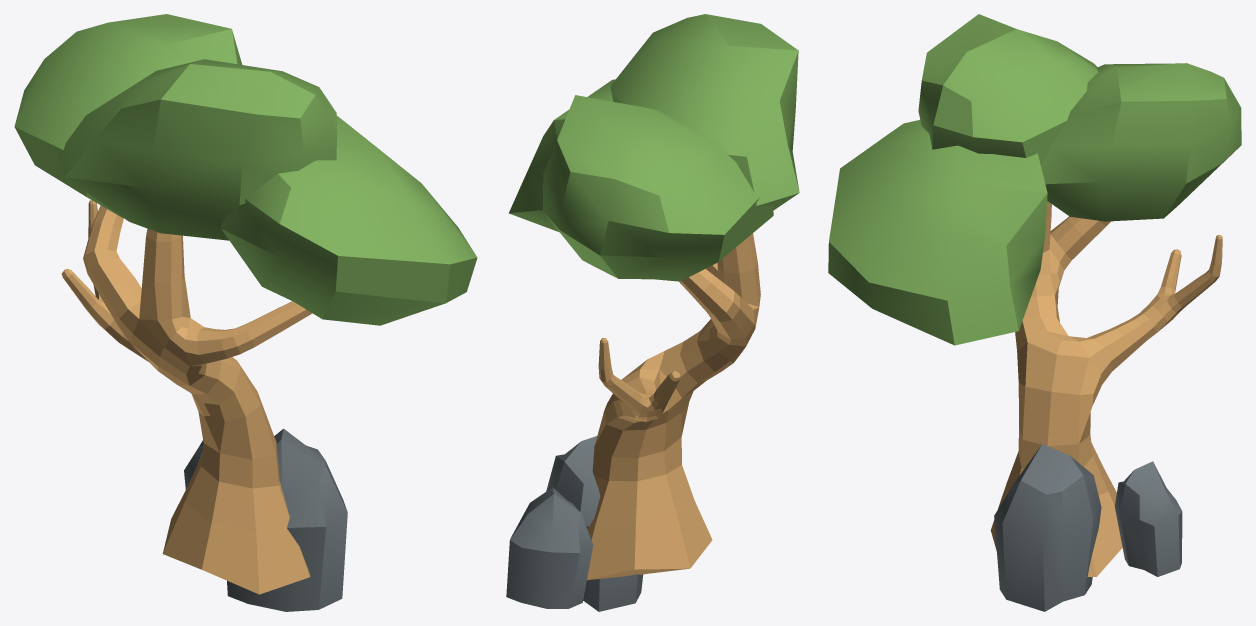
File: Tree01.fbx
The picture shows the model from 3 angles, left to right: view 1: azimuth 30°, elevation 25°; view 2: azimuth 150°, elevation 25°; view 3: azimuth 270°, elevation 25°; orthographic projection. The views are drawn at different scales.
Parts seen in each view (by area): view 1: tree.002; view 2: tree.002; view 3: tree.002.
Boxes of the visible parts, x1,y1,x2,y2 form: tree.002: (14,14,477,611); tree.002: (506,14,799,611); tree.002: (828,14,1241,611).
Bounding box in the file's own units: 312 × 502 × 365.
